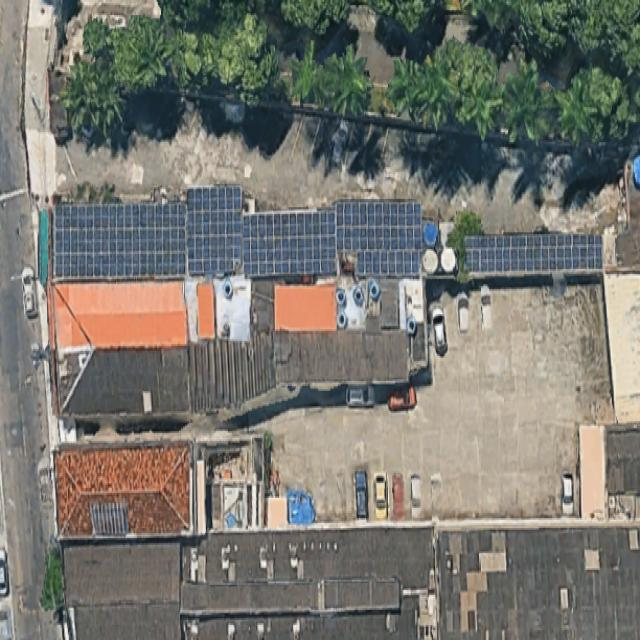painel: (51, 186, 243, 280), (240, 201, 422, 279), (465, 233, 605, 277)
